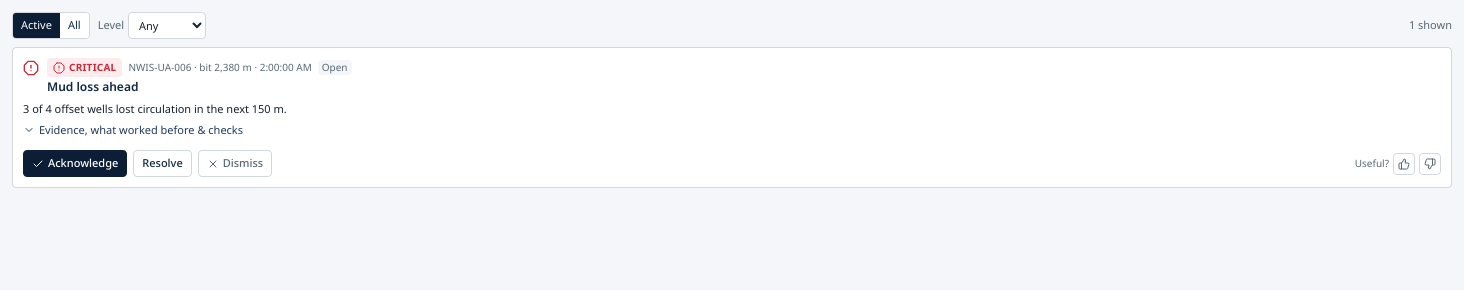
Test: AlertFeed (item 6 UI) › lets an engineer acknowledge and rate an alert
expect the text "Mud loss ahead" is shown: met, box left=47, top=78, right=138, bottom=95
Click the button "Acknowledge". click: (75, 164)
box: left=23, top=150, right=127, bottom=177
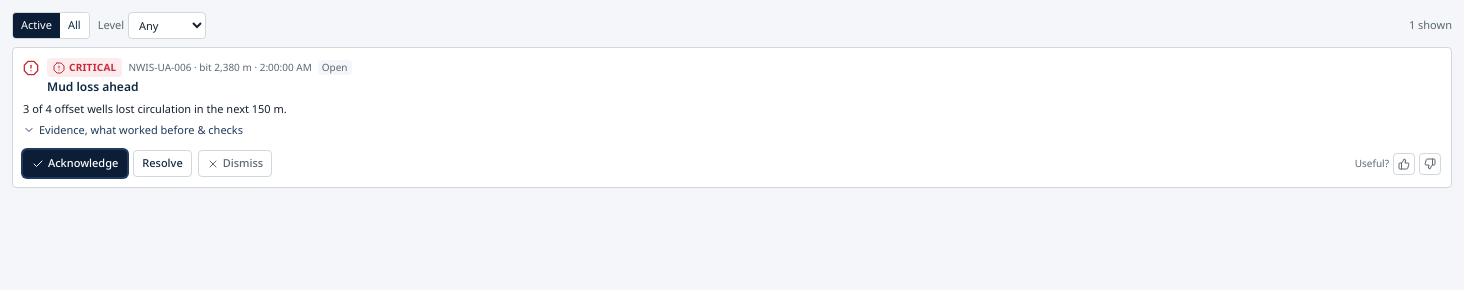
Click the button named "useful". click: (1404, 164)
box: left=1393, top=153, right=1415, bottom=175
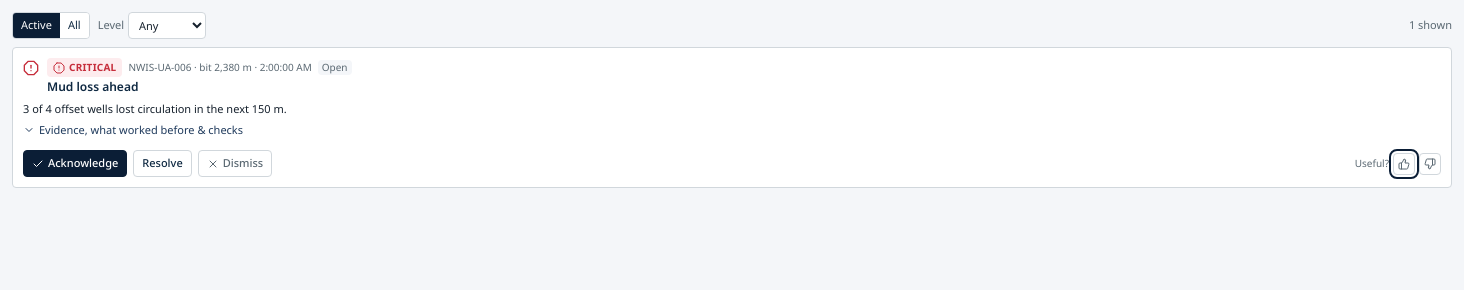
Click the button "Evidence, what worked before & checks". click: (133, 130)
box: left=23, top=122, right=243, bottom=139
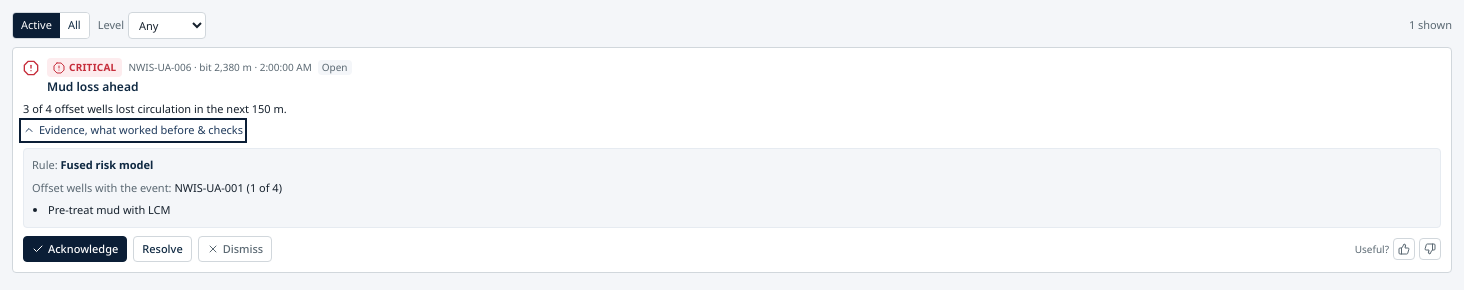
expect the list item "Pre-treat mud with LCM" is shown: met, box left=48, top=202, right=170, bottom=217
expect the text "Fused risk model" is shown: met, box left=60, top=157, right=153, bottom=172
